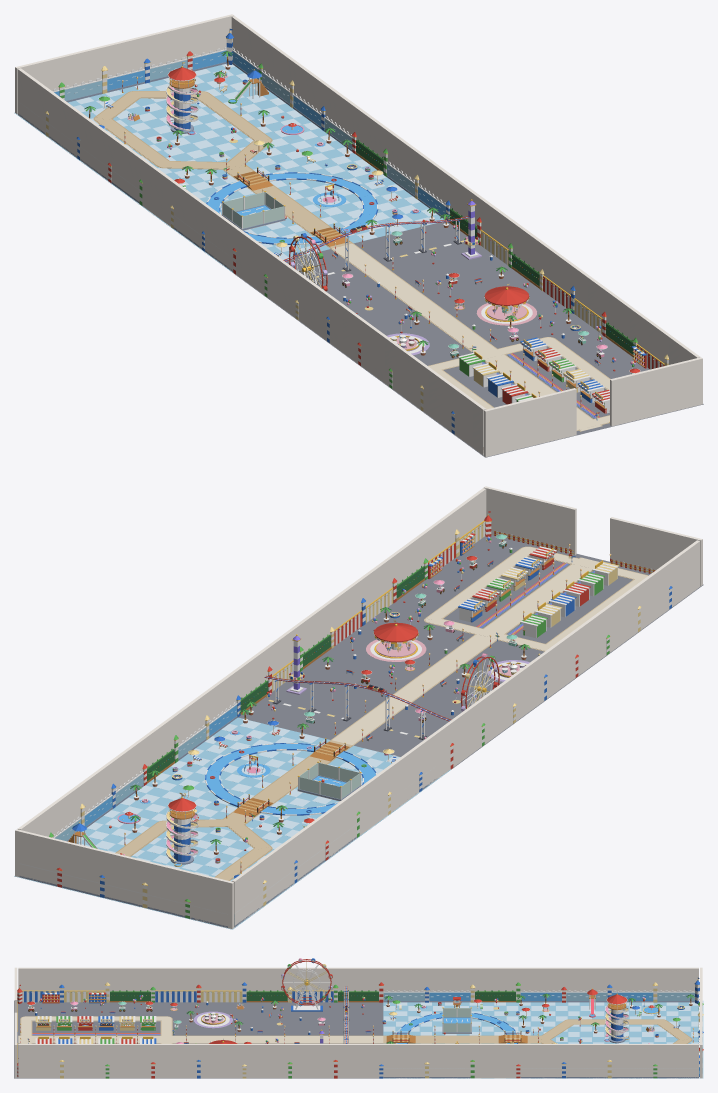
Rendered from CatCafe_WaterPark_Set.glb.
3 renders of one model, top to bottom at view 1: azimuth 30°, elevation 25°; view 2: azimuth 150°, elevation 25°; view 3: azimuth 270°, elevation 25°, orthographic. The views are drawn at different scales.
Visible parts, largest first — view 1: CatCafe_WaterPark_Set, CatCafe_WaterPark_Set_075_Walls_Barrier, CatCafe_WaterPark_Set_159_LazyRiver_Water, CatCafe_WaterPark_Set_198_SlideTower, CatCafe_WaterPark_Set_162_WavePool_Pane, CatCafe_WaterPark_Set_126_FerrisTurn, CatCafe_WaterPark_Set_124_CarouselTurn, CatCafe_WaterPark_Set_159_LazyRiver; view 2: CatCafe_WaterPark_Set_075_Walls_Barrier, CatCafe_WaterPark_Set, CatCafe_WaterPark_Set_159_LazyRiver_Water, CatCafe_WaterPark_Set_198_SlideTower, CatCafe_WaterPark_Set_162_WavePool_Pane, CatCafe_WaterPark_Set_126_FerrisTurn, CatCafe_WaterPark_Set_159_LazyRiver, CatCafe_WaterPark_Set_124_CarouselTurn, CatCafe_WaterPark_Set_128_CoasterArch; view 3: CatCafe_WaterPark_Set_075_Walls_Barrier, CatCafe_WaterPark_Set, CatCafe_WaterPark_Set_126_FerrisTurn, CatCafe_WaterPark_Set_198_SlideTower, CatCafe_WaterPark_Set_162_WavePool_Pane, CatCafe_WaterPark_Set_159_LazyRiver_Water, CatCafe_WaterPark_Set_015_WallBoards, CatCafe_WaterPark_Set_017_WallBoards, CatCafe_WaterPark_Set_031_WallTiles, CatCafe_WaterPark_Set_025_WallTiles, CatCafe_WaterPark_Set_019_WallHedge, CatCafe_WaterPark_Set_027_WallTiles (+22 smaller).
Part boxes in pixels (x1,y1,x2,y2): CatCafe_WaterPark_Set: (14,63,703,457); CatCafe_WaterPark_Set_075_Walls_Barrier: (15,14,702,457); CatCafe_WaterPark_Set_159_LazyRiver_Water: (207,173,376,243); CatCafe_WaterPark_Set_198_SlideTower: (166,62,198,134); CatCafe_WaterPark_Set_162_WavePool_Pane: (223,192,283,228); CatCafe_WaterPark_Set_126_FerrisTurn: (289,233,327,291); CatCafe_WaterPark_Set_124_CarouselTurn: (484,284,529,315); CatCafe_WaterPark_Set_159_LazyRiver: (206,172,378,244); CatCafe_WaterPark_Set_075_Walls_Barrier: (15,486,702,928); CatCafe_WaterPark_Set: (14,535,703,929); CatCafe_WaterPark_Set_159_LazyRiver_Water: (206,743,375,814); CatCafe_WaterPark_Set_198_SlideTower: (166,792,198,866); CatCafe_WaterPark_Set_162_WavePool_Pane: (299,763,360,798); CatCafe_WaterPark_Set_126_FerrisTurn: (461,653,499,711); CatCafe_WaterPark_Set_159_LazyRiver: (205,743,376,815); CatCafe_WaterPark_Set_124_CarouselTurn: (373,620,418,652); CatCafe_WaterPark_Set_128_CoasterArch: (272,680,426,739); CatCafe_WaterPark_Set_075_Walls_Barrier: (14,967,702,1078); CatCafe_WaterPark_Set: (14,1000,703,1078); CatCafe_WaterPark_Set_126_FerrisTurn: (281,958,332,1006); CatCafe_WaterPark_Set_198_SlideTower: (604,991,629,1043); CatCafe_WaterPark_Set_162_WavePool_Pane: (442,1008,471,1032); CatCafe_WaterPark_Set_159_LazyRiver_Water: (397,1013,516,1043); CatCafe_WaterPark_Set_015_WallBoards: (155,990,196,1002); CatCafe_WaterPark_Set_017_WallBoards: (201,990,242,1002); CatCafe_WaterPark_Set_031_WallTiles: (520,990,561,1002); CatCafe_WaterPark_Set_025_WallTiles: (383,990,424,1002); CatCafe_WaterPark_Set_019_WallHedge: (246,990,287,1002); CatCafe_WaterPark_Set_027_WallTiles: (429,990,470,1002).
Bounding box in the file's own units: 151 × 45.03 × 561.
1 material, 1 textured.
